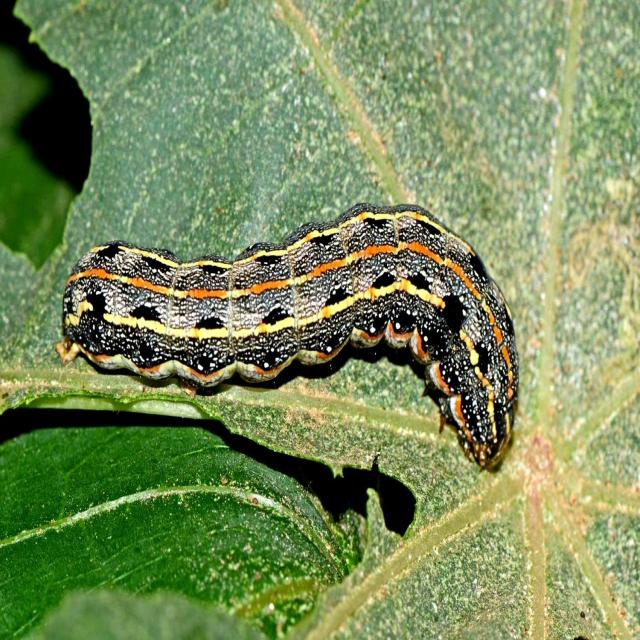Armyworm: (60, 191, 524, 493)
